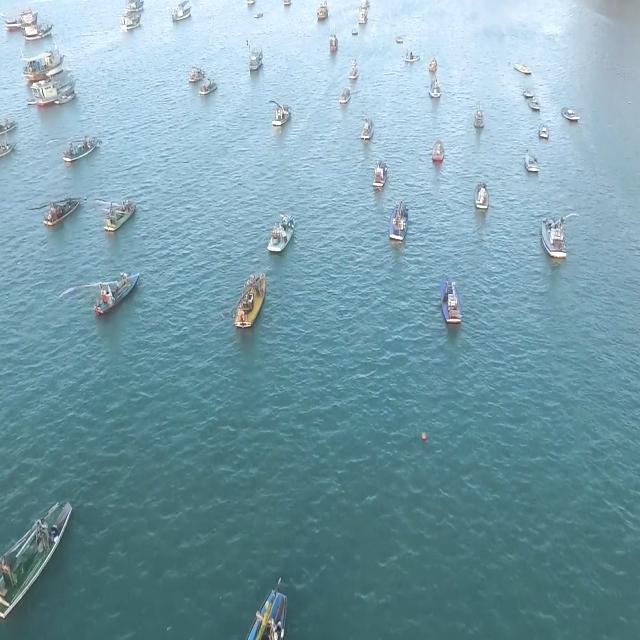ship: (0, 503, 75, 624), (24, 51, 78, 108), (235, 584, 288, 640), (94, 271, 140, 315), (233, 274, 267, 329), (540, 216, 568, 265), (0, 2, 41, 32), (104, 198, 139, 233), (269, 215, 295, 257), (43, 198, 81, 226), (439, 278, 461, 324), (63, 137, 100, 164), (272, 91, 293, 131), (391, 201, 410, 242), (560, 103, 584, 131), (171, 0, 193, 27), (374, 156, 391, 188), (245, 46, 265, 72), (0, 112, 21, 136), (524, 147, 538, 182), (476, 187, 490, 211), (435, 138, 447, 161)
